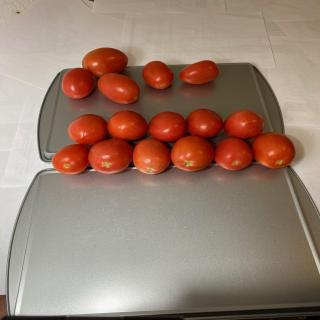Chilli: (51, 107, 296, 175)
Tomato: (251, 132, 296, 168), (170, 136, 214, 172), (88, 139, 133, 174), (132, 138, 171, 174), (82, 48, 128, 78), (97, 73, 140, 104), (67, 114, 108, 145), (214, 138, 253, 170), (107, 110, 148, 140), (223, 110, 265, 139), (148, 111, 186, 142), (52, 144, 89, 175), (186, 108, 223, 138), (179, 60, 219, 85), (62, 68, 94, 99), (142, 60, 174, 90)
